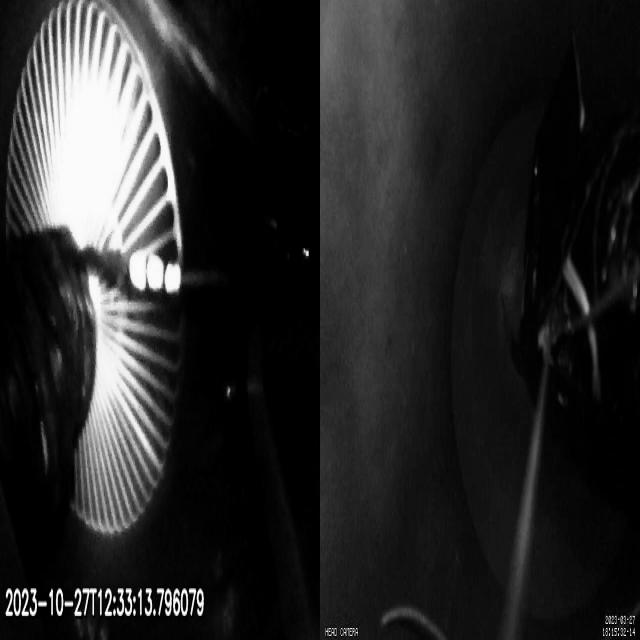white-dots: (129, 250, 181, 297)
